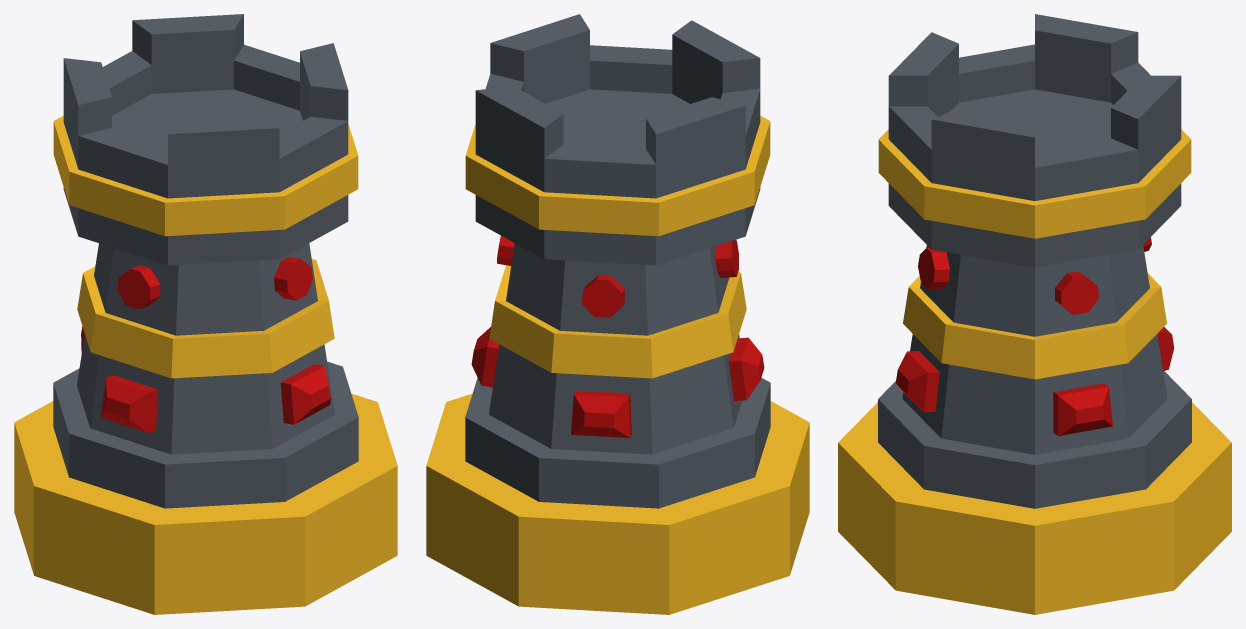
The model's file is fire4.gltf.
The picture shows the model from 3 angles, left to right: view 1: azimuth 30°, elevation 25°; view 2: azimuth 150°, elevation 25°; view 3: azimuth 270°, elevation 25°; orthographic projection.
Parts seen in each view (by area): view 1: Fire4; view 2: Fire4; view 3: Fire4.
Boxes of the visible parts, <box> form: Fire4: <box>14,14,397,614</box>; Fire4: <box>426,14,809,614</box>; Fire4: <box>838,14,1231,614</box>.
Bounding box in the file's own units: 8 × 10.22 × 8.
